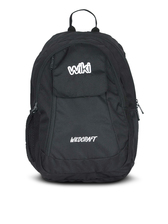bag: (21, 8, 144, 184)
